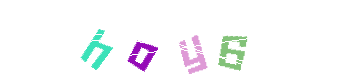6: (149, 0, 229, 80)
H: (102, 0, 182, 80)
O: (127, 0, 207, 80)
Y: (130, 0, 210, 80)
